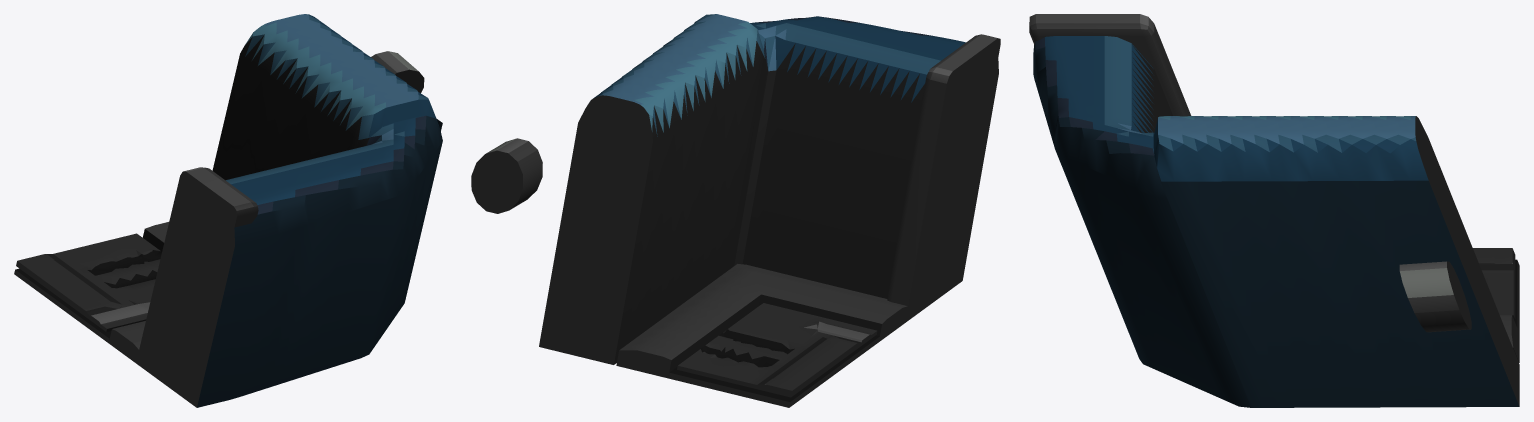
File: fleet_walker_124.glb
3 views of the same model, side by side, from view 1: azimuth 30°, elevation 25°; view 2: azimuth 150°, elevation 25°; view 3: azimuth 270°, elevation 25° (orthographic). The views are drawn at different scales.
Parts seen in each view (by area): view 1: fleet_walker_124; view 2: fleet_walker_124; view 3: fleet_walker_124.
Part boxes in pixels (box(x1,y1,x2,y2)): fleet_walker_124: box(14, 14, 442, 407); fleet_walker_124: box(471, 14, 1000, 407); fleet_walker_124: box(1029, 14, 1519, 407).
Size of the model in its own units: 19.9 by 12.4 by 21.2.
